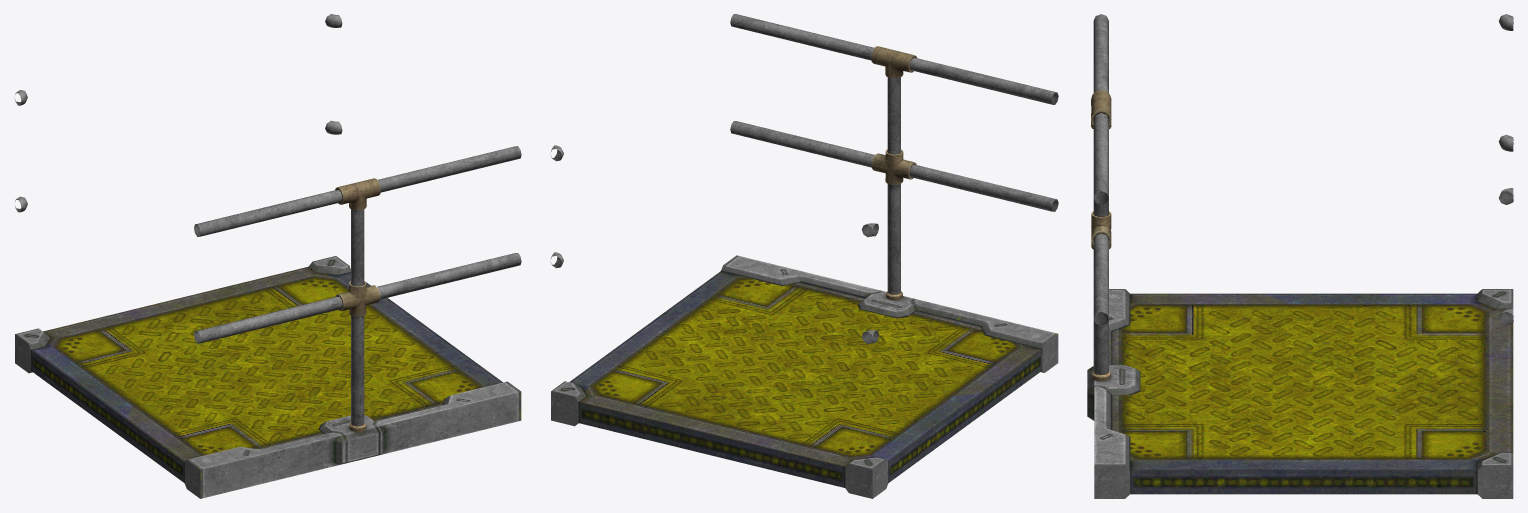
Rendered from catwalk_3way.dae.
3 views of the same model, side by side, from view 1: azimuth 30°, elevation 25°; view 2: azimuth 150°, elevation 25°; view 3: azimuth 270°, elevation 25° (orthographic). The views are drawn at different scales.
Parts seen in each view (by area): view 1: 3way, railing__2_; view 2: 3way, railing__2_; view 3: 3way, railing__2_.
Part boxes in pixels (<box>): 3way: <box>15,256,521,498</box>; railing__2_: <box>14,14,521,432</box>; 3way: <box>551,255,1058,498</box>; railing__2_: <box>551,14,1058,344</box>; 3way: <box>1087,289,1513,498</box>; railing__2_: <box>1091,14,1513,381</box>.
Size of the model in its own units: 2.01 by 1.63 by 2.04.
